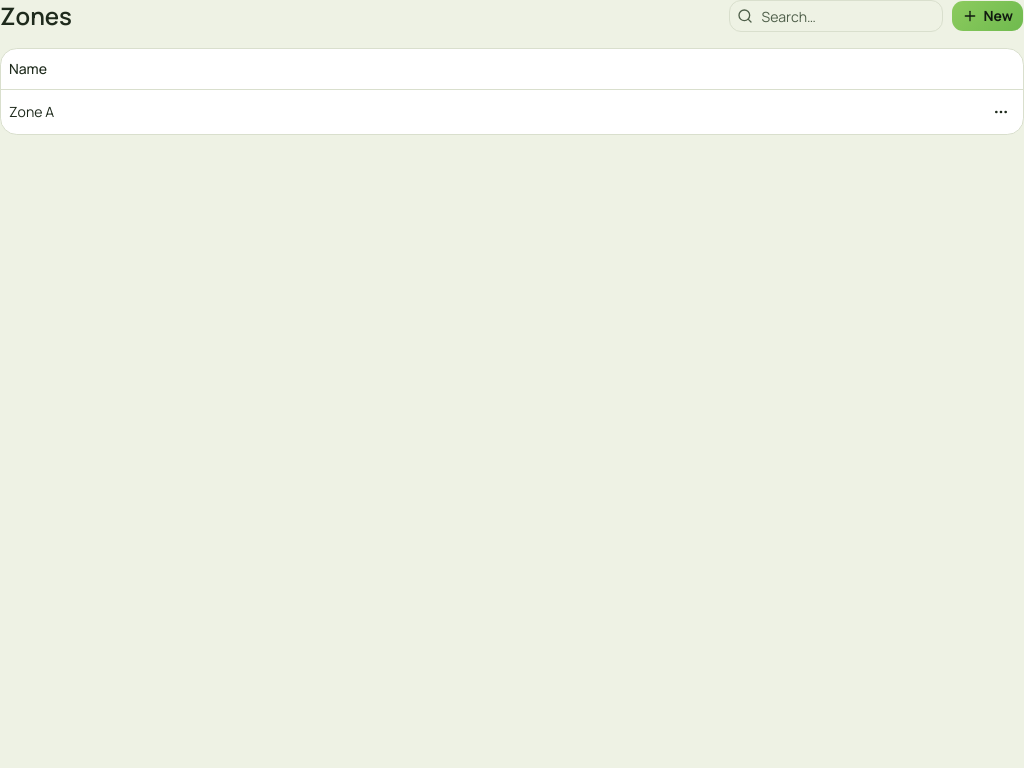
Test case: EntityCrudPage › edits with the row's defaults and sends the id
The width and height of the screenshot is (1024, 768).
Later steps or results of the test are not shown.
What coordinates should you click on to do the following:
click the button named "Row actions"
I would click on:
 (1001, 112)
Its box is top-left (987, 98), bottom-right (1015, 126).
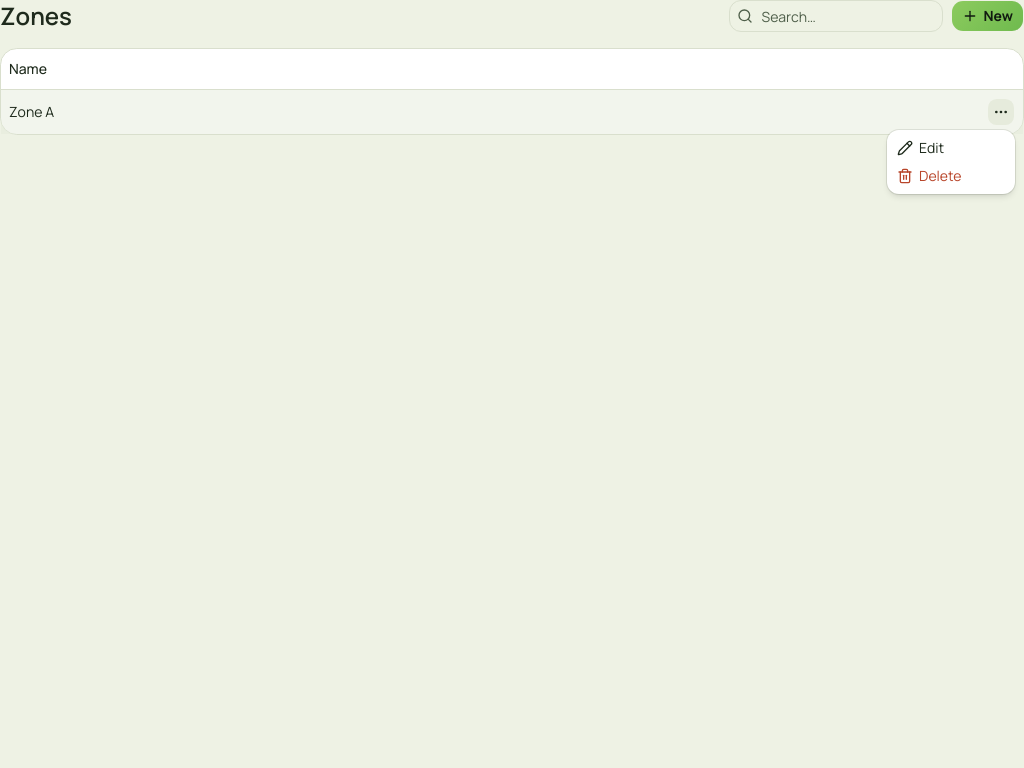
What coordinates should you click on to do the following:
click the menu item "Edit"
I would click on:
 (921, 148)
Its box is top-left (897, 138), bottom-right (944, 157).
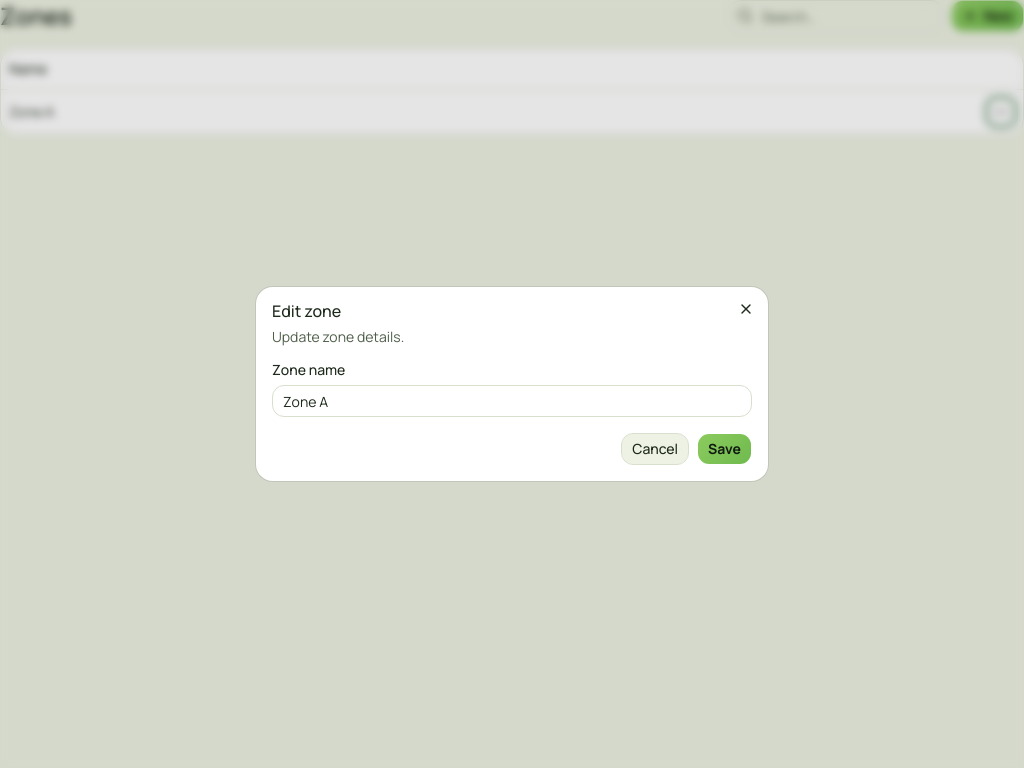
Expected: the heading "Edit zone" is shown, top-left (272, 300), bottom-right (341, 322)
Expected: the field holds "Zone A", top-left (272, 385), bottom-right (752, 417)
